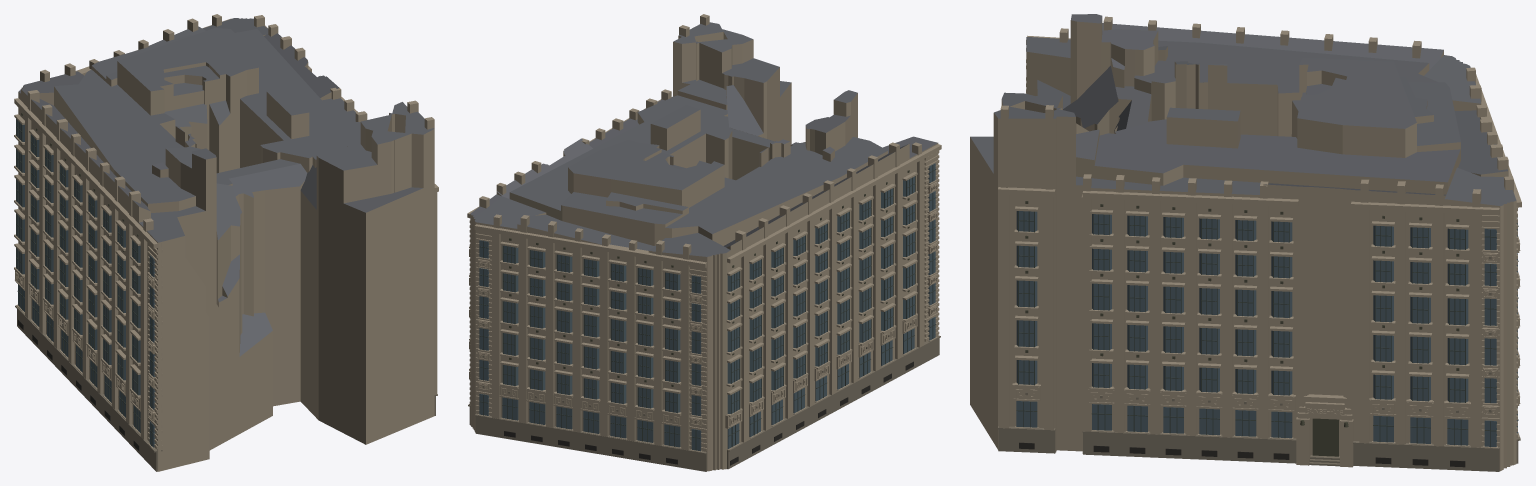
Rendered from bungehuis.glb.
The picture shows the model from 3 angles, left to right: view 1: azimuth 30°, elevation 25°; view 2: azimuth 150°, elevation 25°; view 3: azimuth 270°, elevation 25°; orthographic projection. The views are drawn at different scales.
Visible parts, largest first — view 1: bungehuis; view 2: bungehuis; view 3: bungehuis.
Part boxes in pixels (box(x1,y1,x2,y2)): bungehuis: box(14, 14, 438, 471); bungehuis: box(467, 14, 941, 471); bungehuis: box(970, 14, 1521, 471).
Size of the model in its own units: 37.63 by 34.54 by 50.33.
